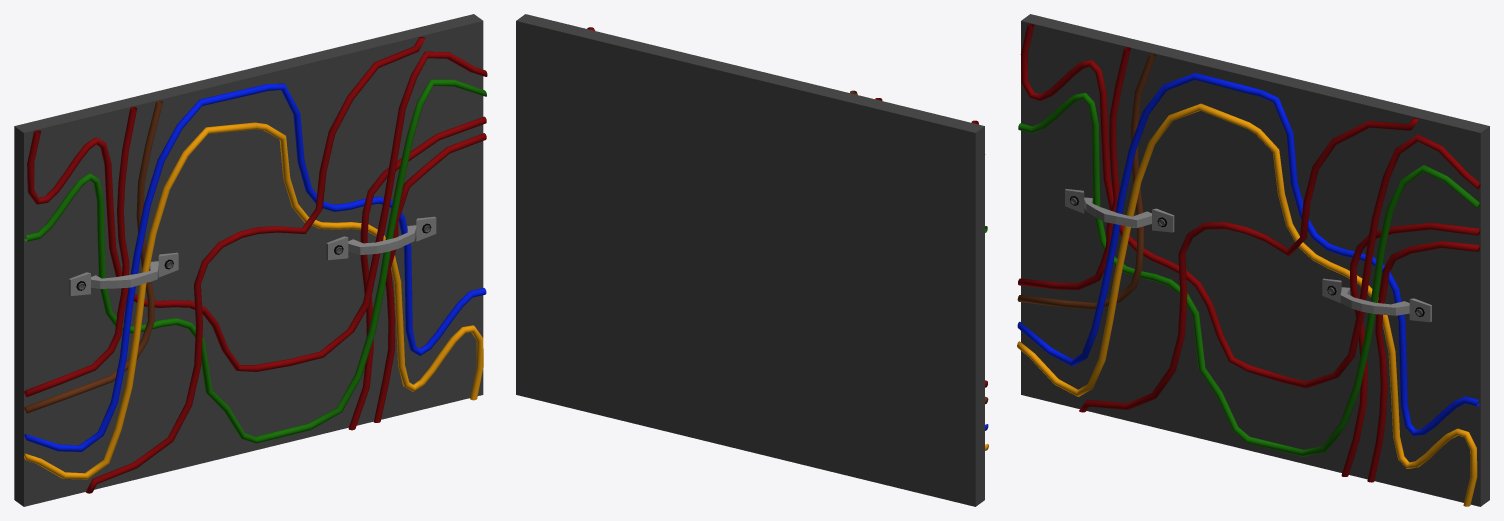
The model's file is CableWall.fbx.
3 renders of one model, left to right at view 1: azimuth 30°, elevation 25°; view 2: azimuth 150°, elevation 25°; view 3: azimuth 330°, elevation 25°, orthographic.
Visible parts, largest first — view 1: CableWall; view 2: CableWall; view 3: CableWall.
Part boxes in pixels (<box>): CableWall: <box>14,14,487,506</box>; CableWall: <box>516,14,988,506</box>; CableWall: <box>1017,14,1489,506</box>.
Bounding box in the file's own units: 5471 × 4249 × 439.
